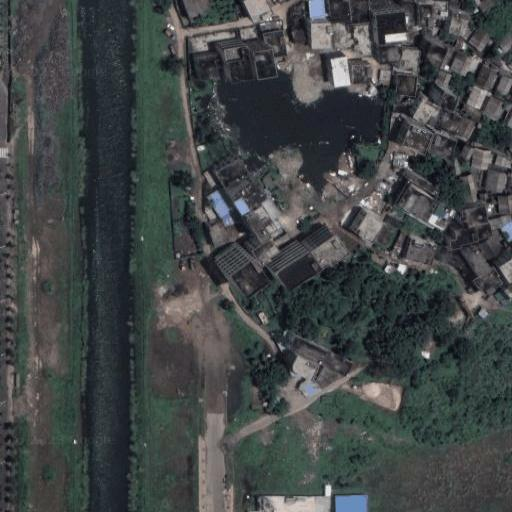building: (276, 251, 323, 294), (212, 245, 254, 287), (314, 345, 358, 384), (461, 86, 501, 127), (244, 203, 283, 244), (228, 176, 267, 217), (396, 186, 439, 223), (207, 214, 251, 250), (309, 233, 350, 271), (402, 117, 436, 155), (433, 108, 474, 139), (209, 186, 242, 224), (227, 44, 259, 83), (402, 237, 438, 269), (462, 205, 492, 243), (375, 11, 407, 43), (471, 267, 504, 298), (196, 50, 231, 79), (286, 355, 318, 386), (218, 159, 250, 190), (425, 132, 458, 161), (252, 237, 282, 268), (462, 245, 491, 277), (476, 234, 505, 263), (350, 22, 373, 57), (428, 204, 456, 232), (409, 174, 437, 199), (395, 70, 420, 97), (254, 49, 277, 78), (357, 213, 382, 239), (243, 0, 272, 22), (415, 100, 440, 125), (299, 341, 323, 365), (477, 65, 500, 90), (331, 56, 350, 86), (449, 12, 472, 36), (184, 0, 213, 19), (334, 495, 366, 512), (468, 28, 491, 51), (377, 42, 402, 63), (311, 24, 332, 48), (287, 20, 307, 45), (461, 173, 478, 202), (434, 65, 455, 88), (449, 228, 470, 251), (403, 49, 422, 72), (427, 43, 446, 65), (485, 172, 507, 191), (393, 234, 409, 260), (314, 368, 337, 386), (418, 1, 433, 27), (473, 149, 491, 170), (498, 257, 512, 284), (264, 30, 286, 47), (350, 67, 373, 83), (440, 92, 460, 110), (496, 74, 512, 96), (330, 0, 349, 18), (497, 194, 512, 216), (449, 53, 466, 72), (497, 30, 512, 51), (492, 102, 508, 121), (440, 48, 455, 68), (308, 0, 325, 17), (488, 214, 512, 226), (459, 145, 475, 162), (495, 290, 511, 307), (262, 21, 284, 33), (433, 3, 449, 19), (478, 0, 498, 12), (500, 222, 512, 241), (495, 155, 510, 167), (503, 106, 512, 124), (273, 44, 286, 56), (380, 71, 391, 82), (505, 175, 512, 186), (482, 193, 488, 200)
